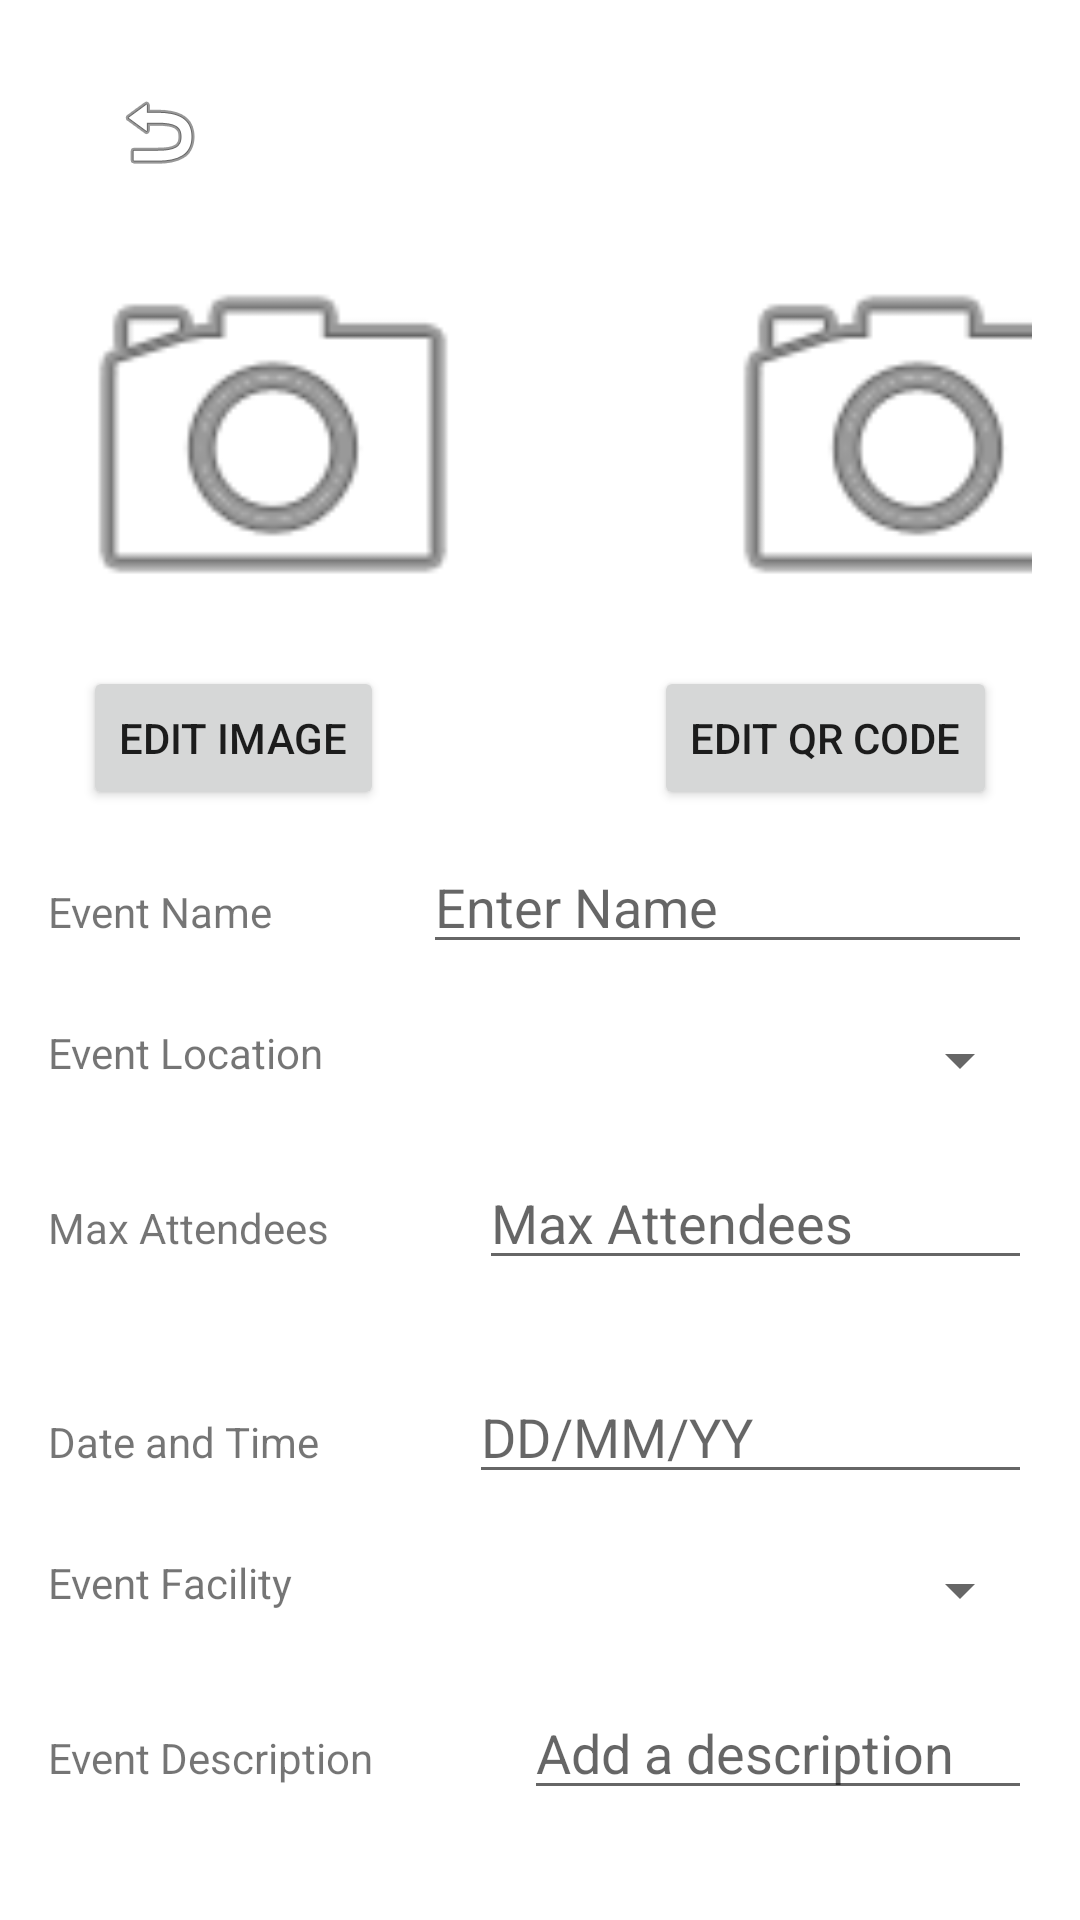

Icons on this 1080 × 1920 Android screen, each with its box as [left=x1, top=y1, right=x2, bottom=y2]:
Back: [left=126, top=101, right=195, bottom=164]
